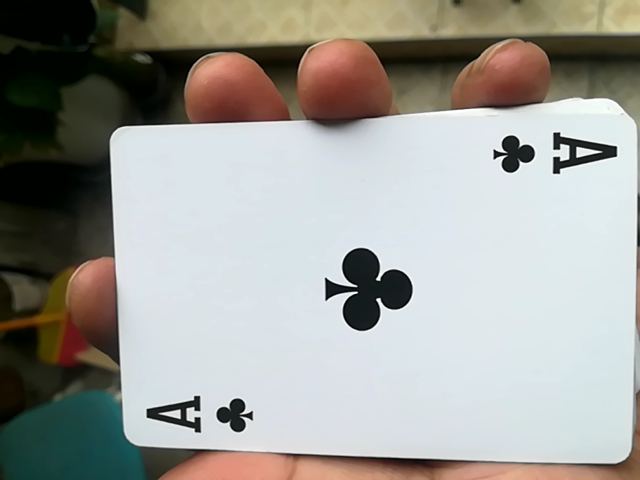mh a: (88, 114, 634, 476)
